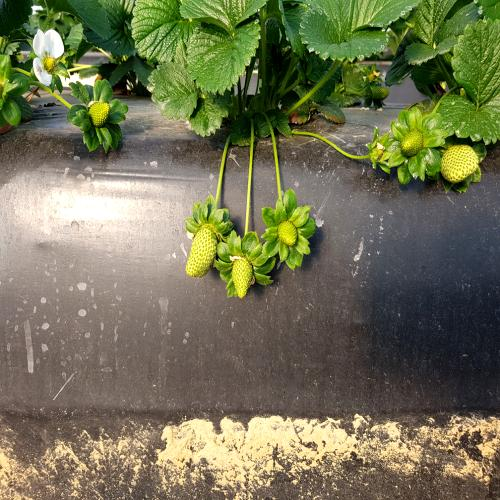unripe: (435, 137, 486, 194), (183, 217, 222, 285), (225, 245, 258, 308)
